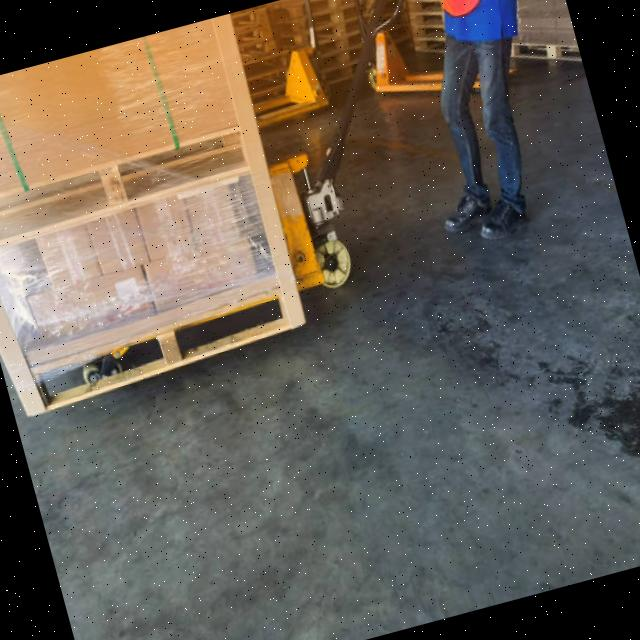Wooden-Pallets: (27, 292, 289, 413)
